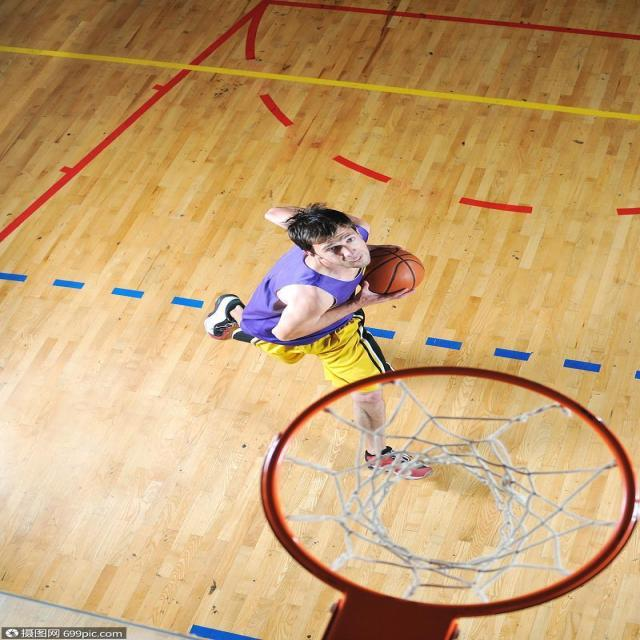rim: (360, 246, 422, 296)
